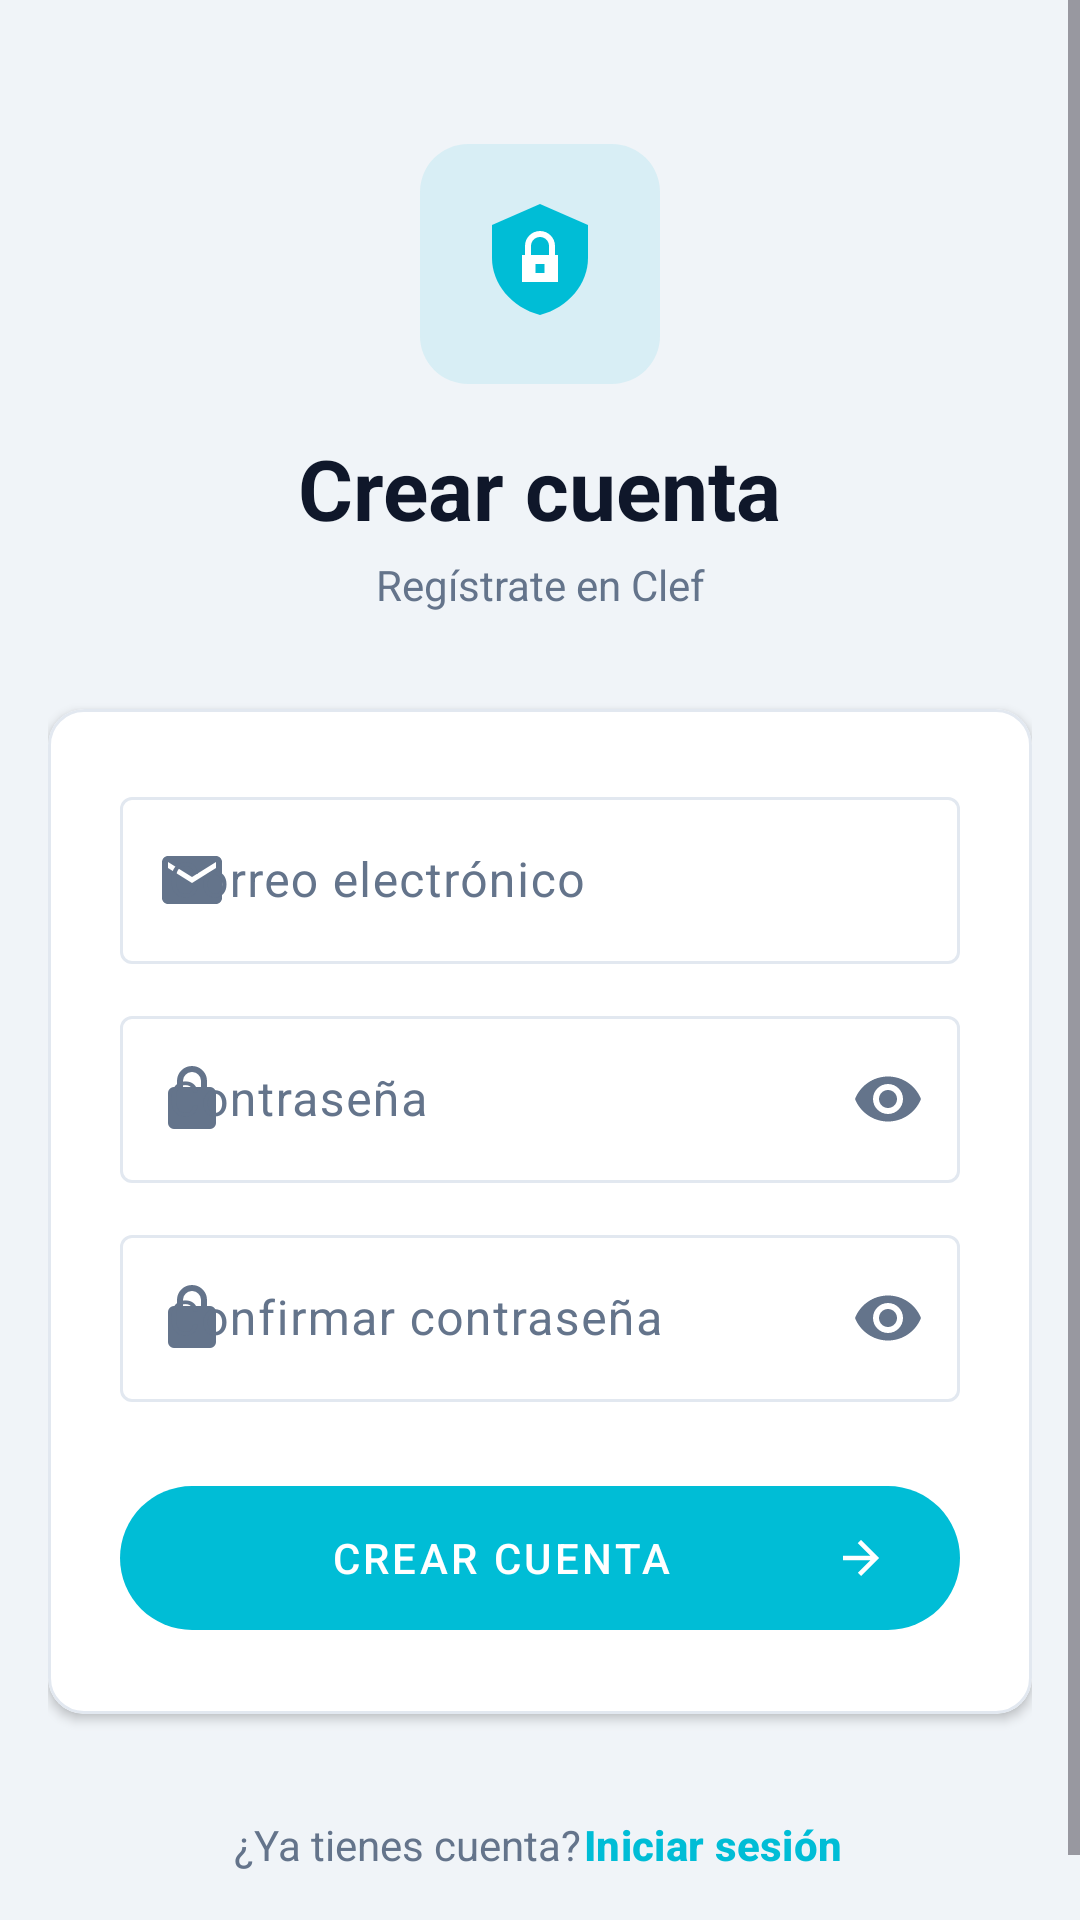

Named icons in this screenshot (1080 × 1920) and their bounding boxes, [x1, y1, x2, y2]:
shield lock: [492, 204, 588, 315]
